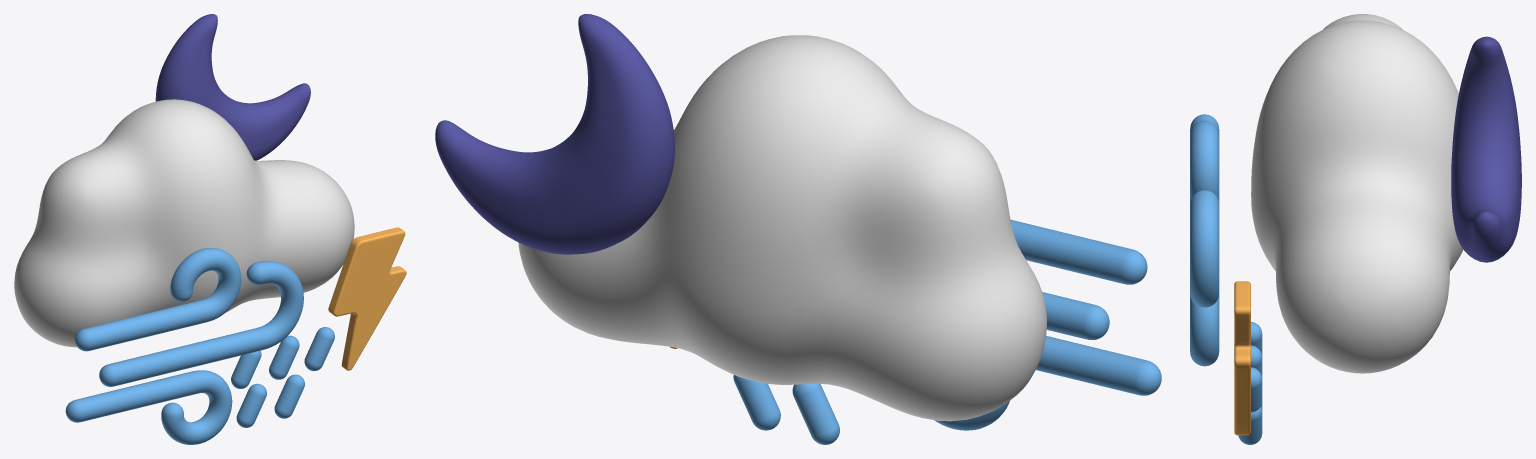
Rendered from apocalypse-night.glb.
3 views of the same model, side by side, from view 1: azimuth 30°, elevation 25°; view 2: azimuth 150°, elevation 25°; view 3: azimuth 270°, elevation 25° (orthographic). The views are drawn at different scales.
Parts seen in each view (by area): view 1: 0028; view 2: 0028; view 3: 0028.
Boxes of the visible parts, x1,y1,x2,y2 form: 0028: (14,14,406,444); 0028: (435,14,1161,444); 0028: (1190,14,1521,444).
Size of the model in its own units: 2.56 by 2.28 by 1.65.
